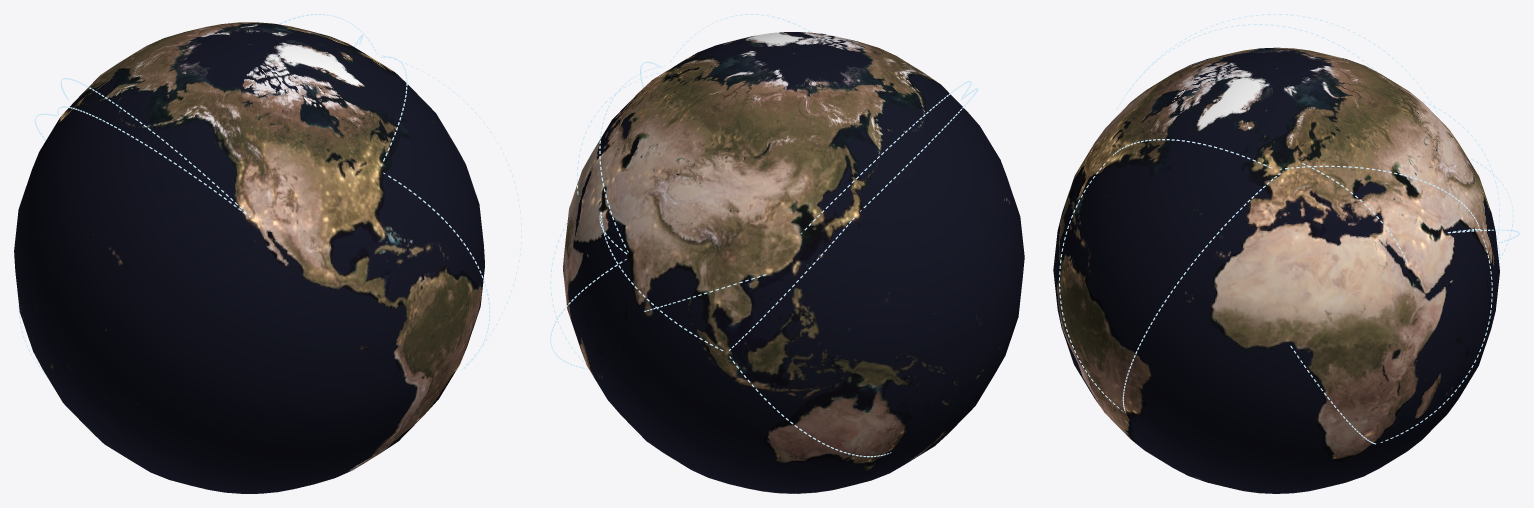
Rendered from earth.glb.
3 views of the same model, side by side, from view 1: azimuth 30°, elevation 25°; view 2: azimuth 150°, elevation 25°; view 3: azimuth 270°, elevation 25° (orthographic). The views are drawn at different scales.
Visible parts, largest first — view 1: Earth; view 2: Earth; view 3: Earth.
Boxes of the visible parts, box(x1,y1,x2,y2) form: Earth: box(14, 22, 484, 493); Earth: box(563, 32, 1024, 493); Earth: box(1053, 47, 1499, 493).
Size of what is drawn, in the model's own units: 2.07 by 2 by 2.09.
Materials: 2 (1 with a texture image).
